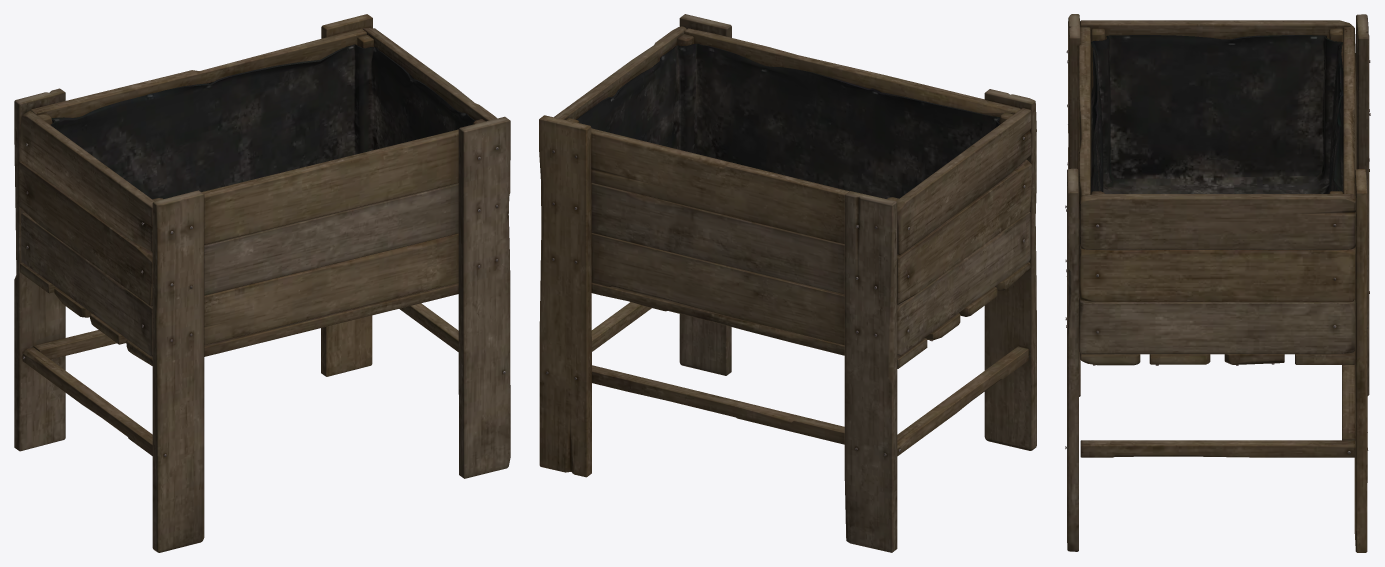
Rendered from planter_box_03.optimized.glb.
The picture shows the model from 3 angles, left to right: view 1: azimuth 30°, elevation 25°; view 2: azimuth 150°, elevation 25°; view 3: azimuth 270°, elevation 25°; orthographic projection. The views are drawn at different scales.
Parts seen in each view (by area): view 1: planter_box_03; view 2: planter_box_03; view 3: planter_box_03.
Boxes of the visible parts, x1=… form: planter_box_03: x1=14, y1=14, x2=510, y2=552; planter_box_03: x1=539, y1=14, x2=1036, y2=552; planter_box_03: x1=1065, y1=14, x2=1370, y2=552.
Size of the model in its own units: 0.9143 by 0.8552 by 0.6556.
Materials: 1 (1 with a texture image).
